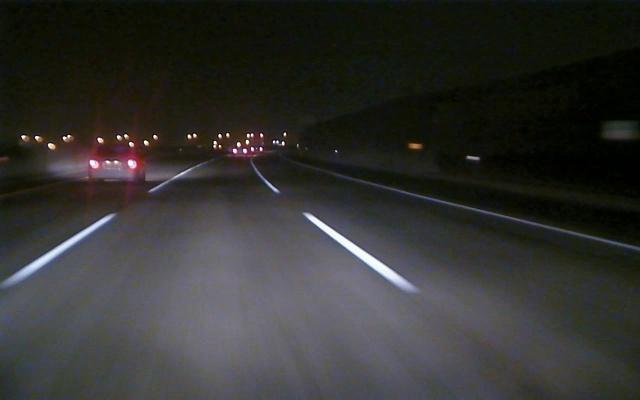lane: (331, 173, 639, 251), (264, 181, 420, 296), (1, 215, 113, 290)
